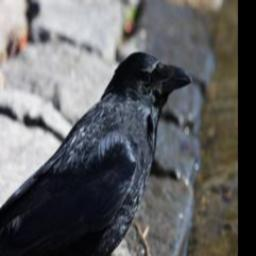Crow: (0, 49, 197, 256)
